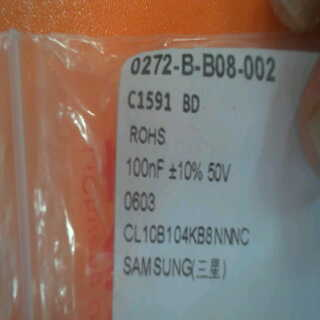100nF: (123, 153, 165, 184)
